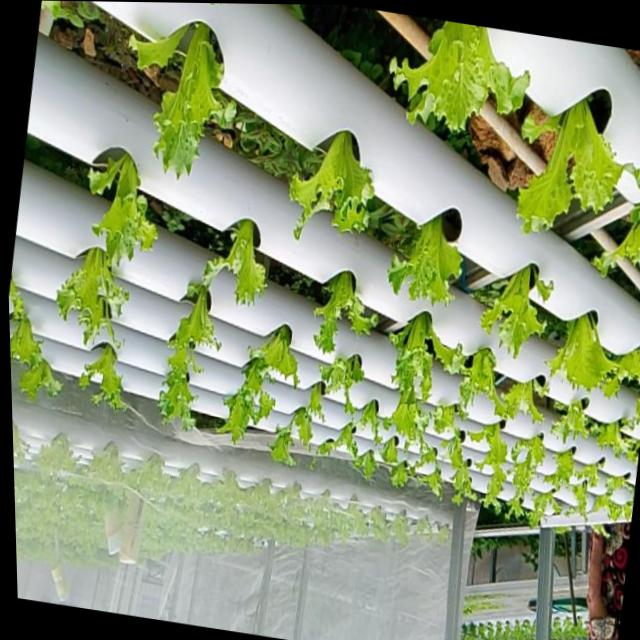Baby: (521, 104, 640, 235), (394, 24, 532, 134), (161, 25, 241, 179), (165, 276, 226, 427), (295, 131, 379, 239), (98, 152, 165, 263), (393, 208, 467, 304), (65, 246, 136, 342), (485, 264, 552, 357), (550, 313, 620, 395), (209, 218, 272, 303), (318, 270, 382, 352), (223, 356, 280, 440), (456, 343, 519, 418), (325, 352, 378, 412), (511, 434, 550, 515), (10, 294, 52, 368), (255, 323, 305, 384), (87, 341, 132, 407), (388, 384, 435, 446), (551, 449, 579, 490), (534, 492, 567, 526), (419, 441, 443, 473), (577, 481, 594, 519), (438, 404, 460, 432)
